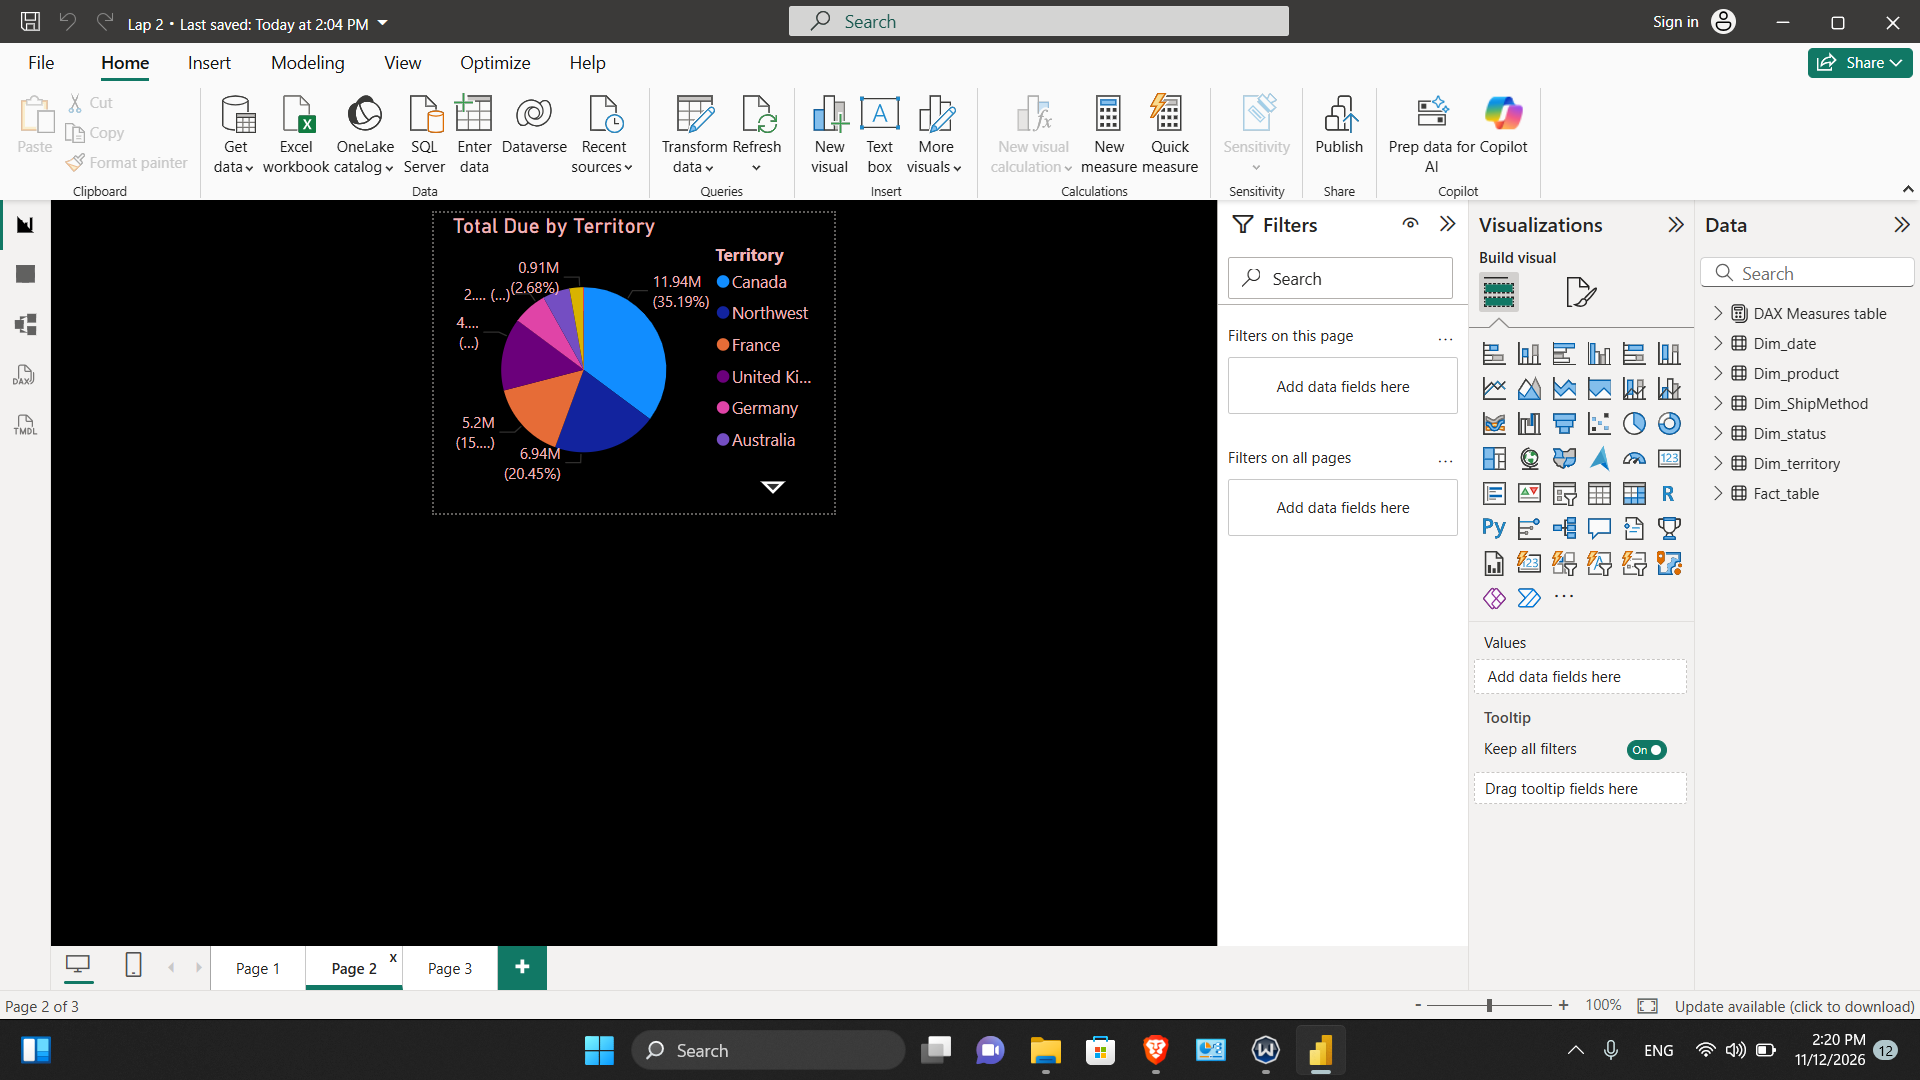

Layout of this report page (visuals, bound fields, positions):
{"tool":"powerbi","page":{"name":"Page 2","canvas":[320,240],"ordinal":1},"visuals":[{"type":"pieChart","fields":{"Category":["Dim_territory.Territory"],"Y":["DAX Measures table.Total Due"]},"box":[10,0,310,232],"z":0}]}

Visuals, with their boxes on the page's 320x240 design canvas (x1, y1, x2, y2). These are canvas units, not pixel positions in the 1920x1080 screenshot, which may show the page scaled, cropped or inside an application window:
pieChart - Dim_territory.Territory x DAX Measures table.Total Due: rect(10, 0, 320, 232)
